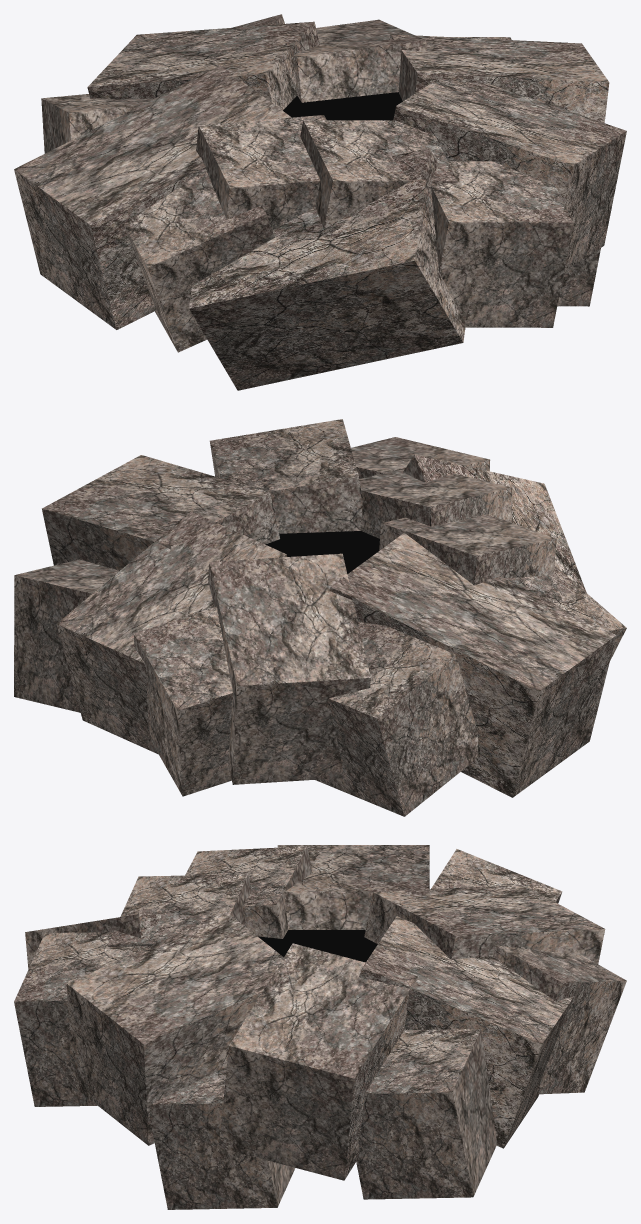
File: slimeSpawner.glb
The picture shows the model from 3 angles, top to bottom: view 1: azimuth 30°, elevation 25°; view 2: azimuth 150°, elevation 25°; view 3: azimuth 270°, elevation 25°; orthographic projection.
Parts seen in each view (by area): view 1: Cube.009, Cube, Cube.010, Cube.004, Cube.013, Cube.001, Cube.003, Cube.006, Cube.005, Cube.002, Cube.007, Cube.014 (+1 smaller); view 2: Cube, Cube.001, Cube.007, Cube.002, Cube.003, Cube.008, Cube.004, Cube.012, Cube.006, Cube.005, Cube.009, Cube.010 (+2 smaller); view 3: Cube.003, Cube.004, Cube.012, Cube.002, Cube.001, Cube.011, Cube.010, Cube, Cube.008, Cube.005, Cube.006, Cube.007 (+2 smaller).
Boxes of the visible parts, box(x1,y1,x2,y2) form: Cube.009: box(189, 148, 465, 390); Cube: box(14, 65, 291, 329); Cube.010: box(431, 161, 573, 327); Cube.004: box(393, 79, 626, 271); Cube.013: box(124, 157, 274, 352); Cube.001: box(87, 21, 319, 110); Cube.003: box(390, 34, 609, 122); Cube.006: box(196, 115, 326, 230); Cube.005: box(300, 120, 457, 228); Cube.002: box(292, 19, 427, 102); Cube.007: box(41, 94, 152, 153); Cube.014: box(283, 92, 402, 120); Cube: box(329, 533, 616, 797); Cube.001: box(208, 553, 370, 784); Cube.007: box(315, 621, 478, 816); Cube.002: box(56, 511, 287, 754); Cube.003: box(42, 455, 279, 570); Cube.008: box(133, 606, 232, 796); Cube.004: box(209, 419, 362, 533); Cube.012: box(14, 559, 119, 712); Cube.006: box(379, 514, 556, 585); Cube.005: box(359, 468, 511, 538); Cube.009: box(403, 454, 586, 592); Cube.010: box(351, 437, 490, 478); Cube.003: box(219, 943, 417, 1180); Cube.004: box(67, 912, 283, 1145); Cube.012: box(356, 1029, 497, 1199); Cube.002: box(359, 916, 574, 1148); Cube.001: box(364, 885, 605, 963); Cube.011: box(150, 1066, 295, 1209); Cube.010: box(14, 932, 147, 1106); Cube: box(277, 845, 429, 929); Cube.008: box(492, 945, 626, 1094); Cube.005: box(108, 874, 251, 946); Cube.006: box(185, 846, 312, 938); Cube.007: box(431, 849, 562, 903).
Bounding box in the file's own units: 9.66 × 4.03 × 9.7.
Materials: 15 (14 with a texture image).
